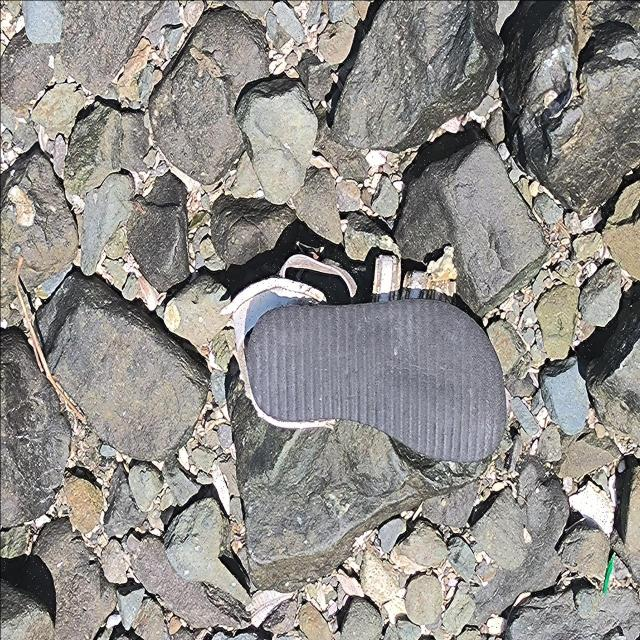rubber_waste: (246, 298, 508, 465)
